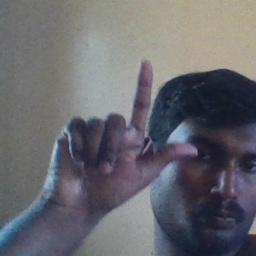L: (45, 57, 198, 211)
